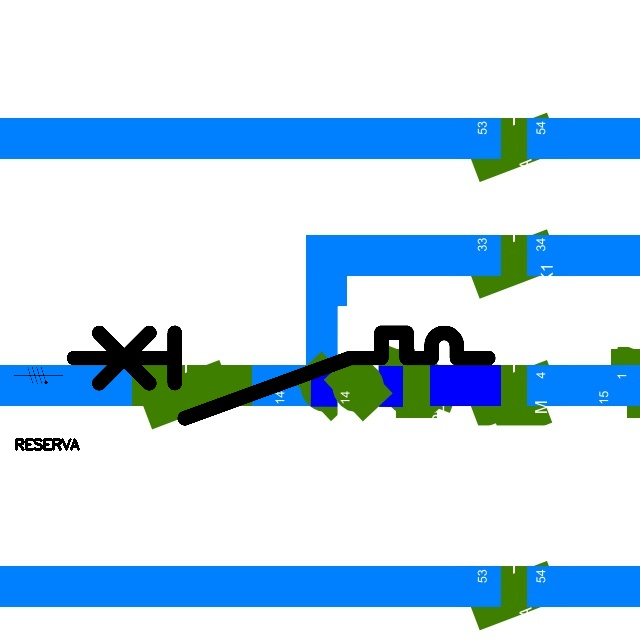interruptor_termomagnetico: (63, 322, 499, 428)
